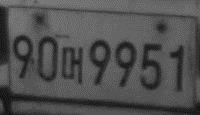0: (36, 36, 58, 81)
1: (168, 45, 185, 94)
5: (139, 43, 163, 90)
9: (87, 38, 111, 86), (114, 41, 138, 89), (12, 33, 33, 79)
머: (61, 45, 83, 86)
